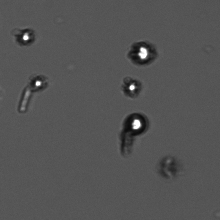Dead Cell: (155, 151, 183, 182)
Living Cell: (126, 35, 158, 68), (119, 111, 150, 136), (14, 24, 37, 46), (29, 72, 48, 95), (123, 75, 141, 96)
